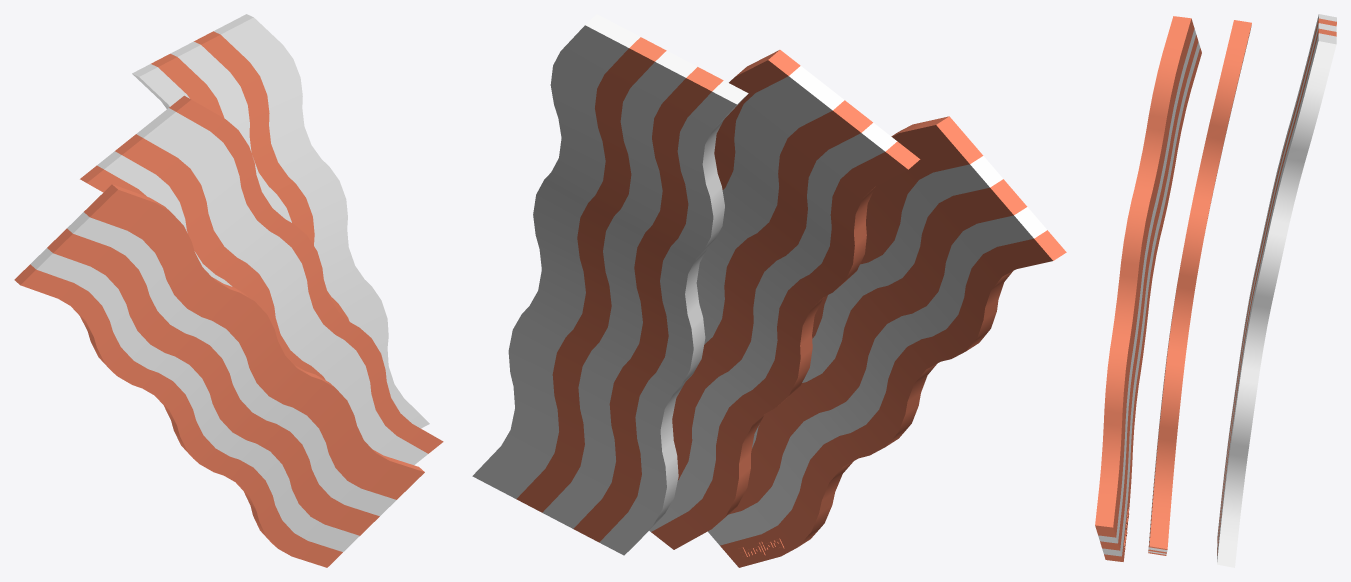
The model's file is bacon.gltf.
The picture shows the model from 3 angles, left to right: view 1: azimuth 30°, elevation 25°; view 2: azimuth 150°, elevation 25°; view 3: azimuth 270°, elevation 25°; orthographic projection. The views are drawn at different scales.
Parts seen in each view (by area): view 1: Cube.350; view 2: Cube.350; view 3: Cube.350.
Part boxes in pixels (x1,y1,x2,y2): Cube.350: [14, 14, 443, 567]; Cube.350: [472, 14, 1066, 567]; Cube.350: [1095, 14, 1336, 567].
Size of the model in its own units: 2.21 by 2.36 by 0.9734.
1 material, 1 textured.
